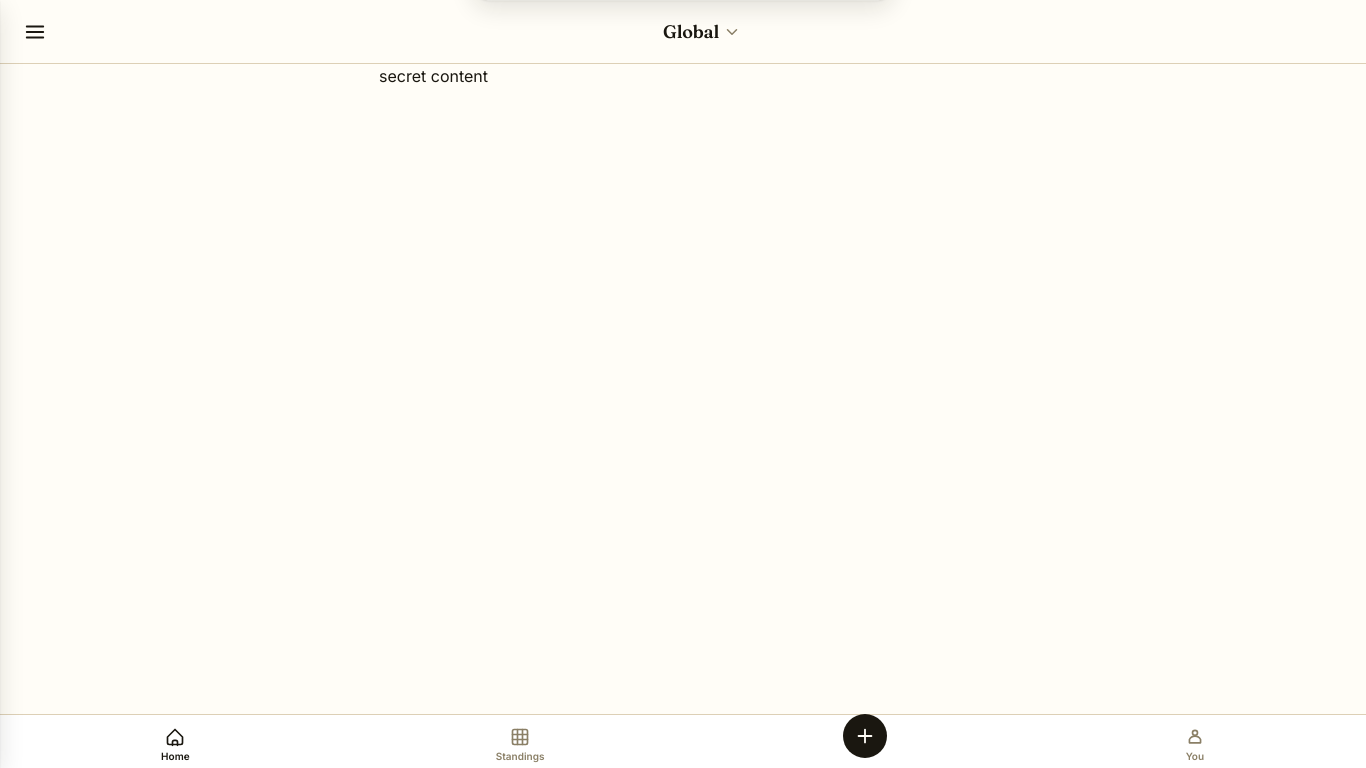
Test: AppShell › opens the CreateGroup overlay when 'New group' is chosen from the board switcher
expect the text "secret content" is shown: met, box left=379, top=66, right=488, bottom=86
expect the field labelled "group name" is not shown: met
Global board (no groups) — trigger button is titled "Global".
Click the button "Global" at (702, 32), box left=655, top=12, right=749, bottom=51
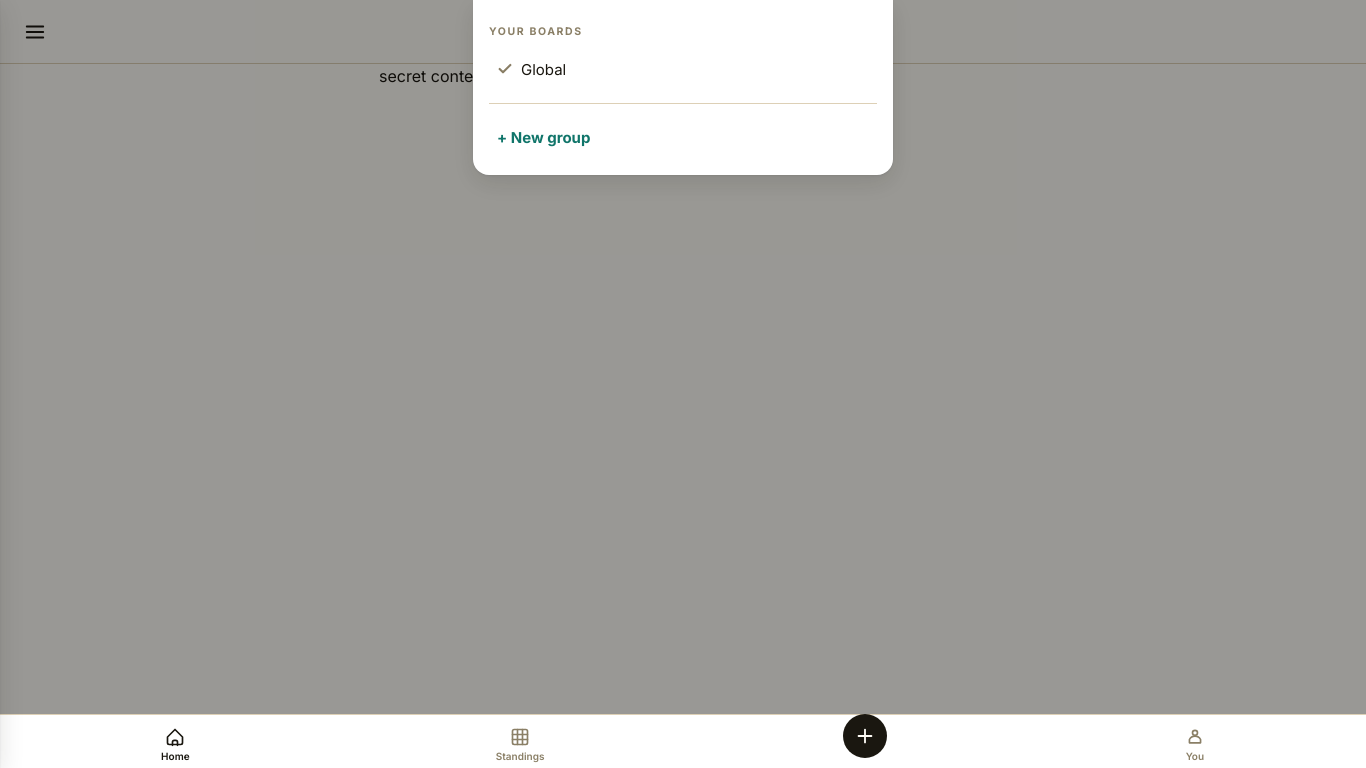
Click the button "+ New group" at (544, 137), box left=489, top=116, right=877, bottom=159
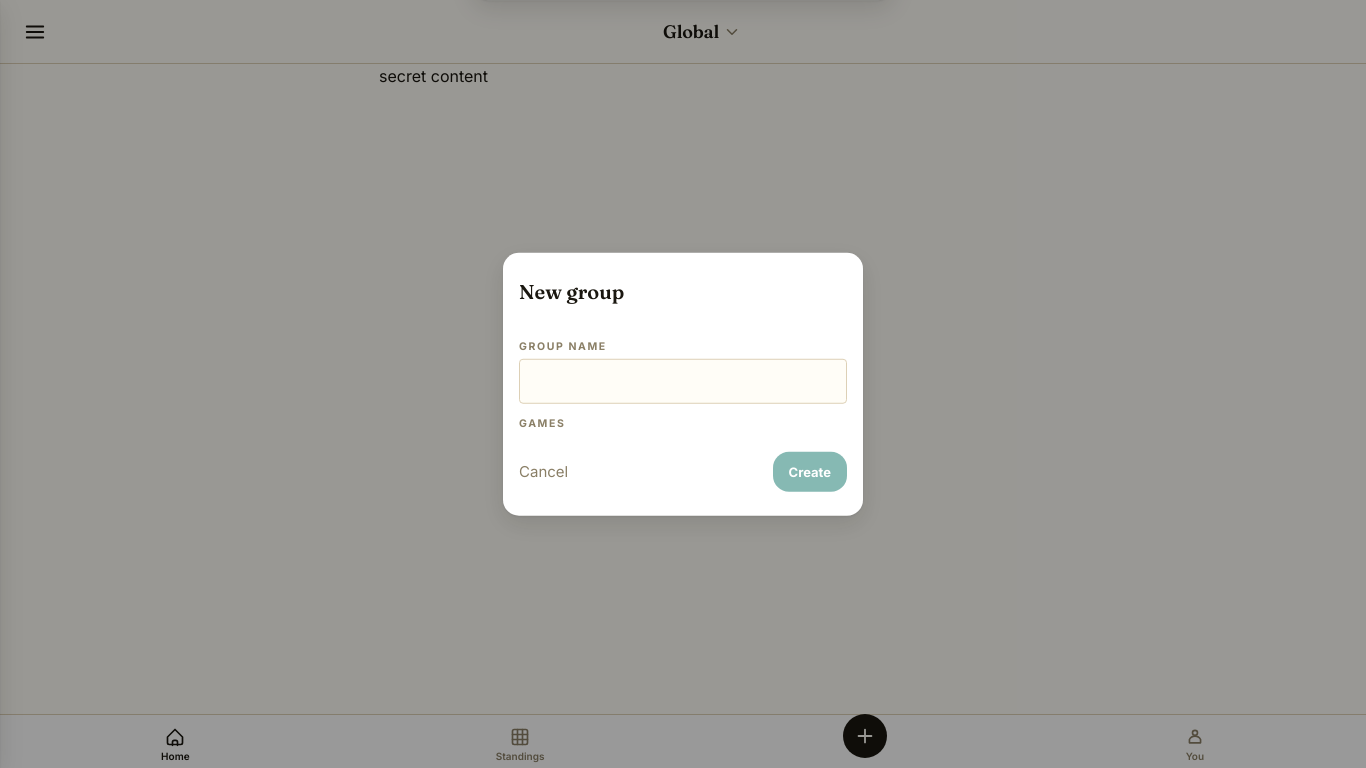
expect the field labelled "Group name" is shown: met, box left=519, top=358, right=847, bottom=404
expect the button "Create" is shown: met, box left=773, top=451, right=847, bottom=491
